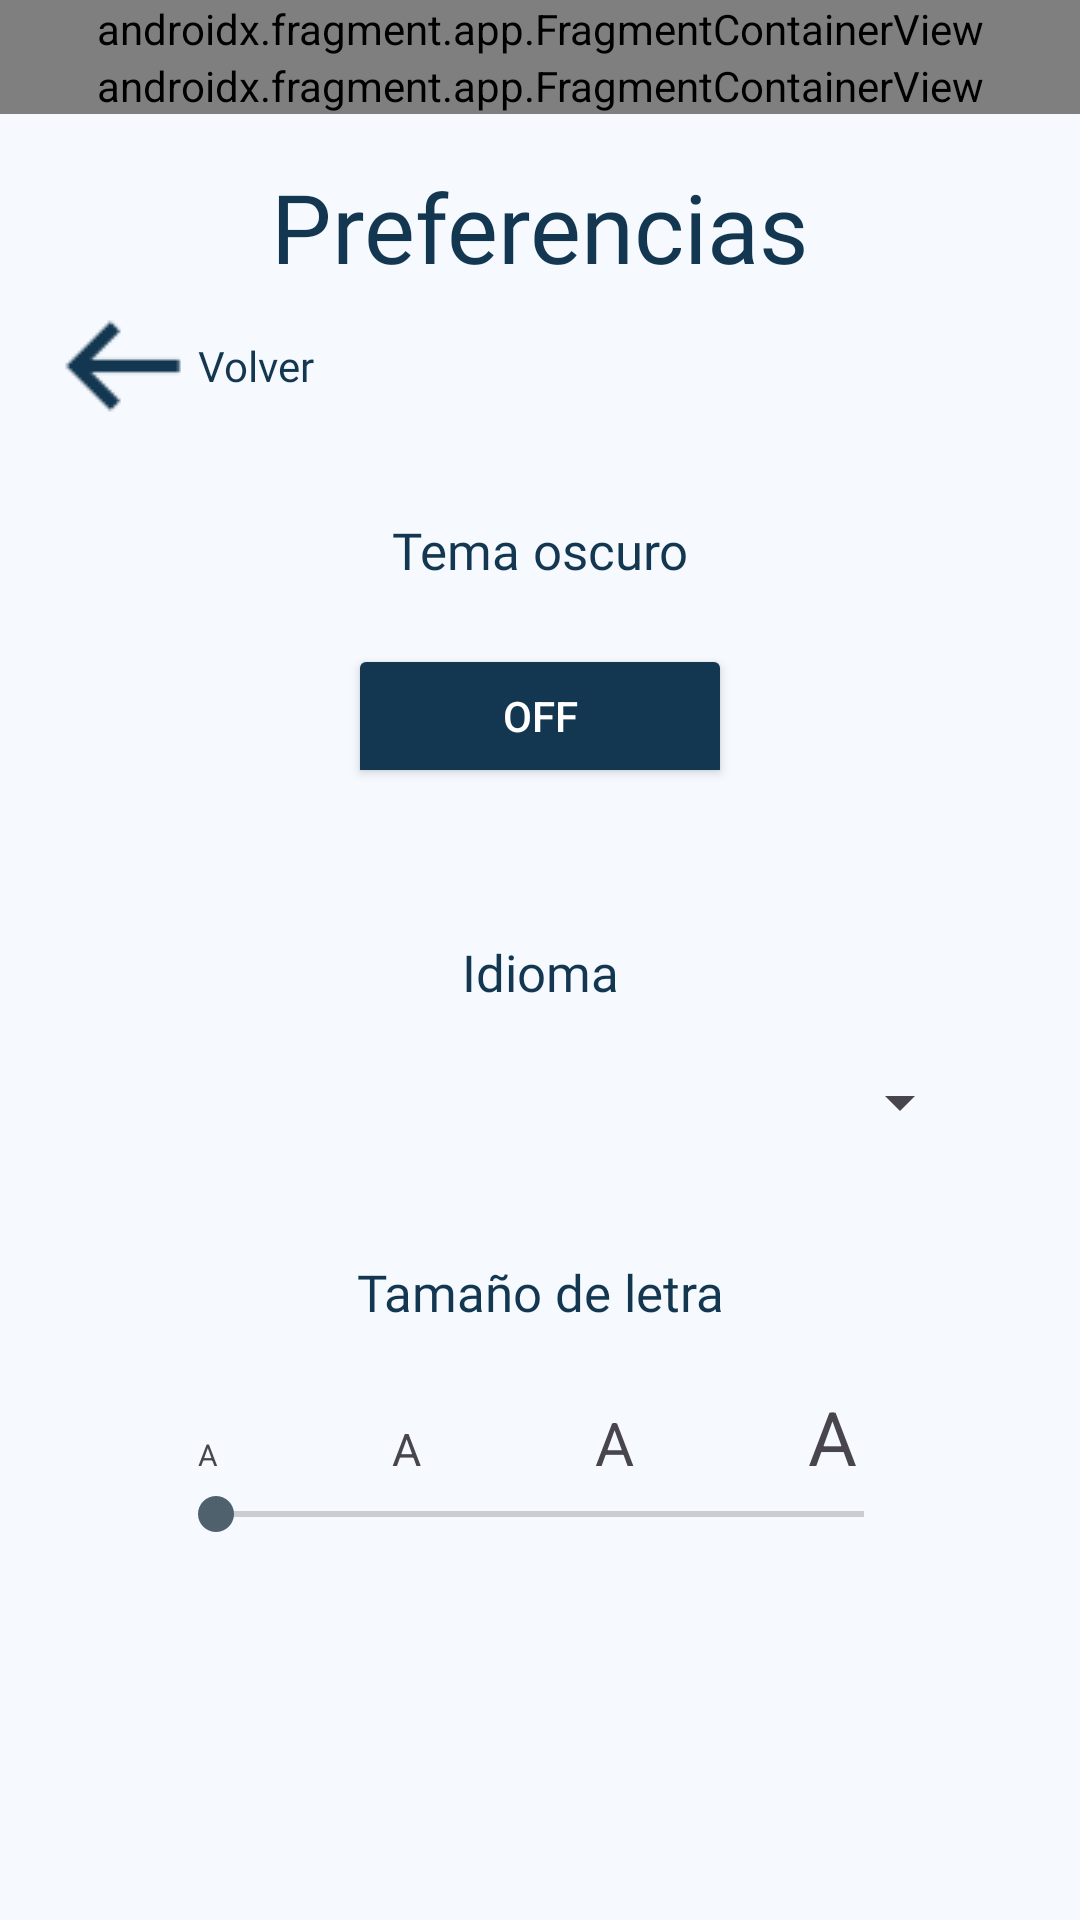

Screen size 1080*1920. Icon name, then its box in pixels as {"x1": x1, "y1": y1, "x2": x2, "y2": y2}:
iconarrowleft: {"x1": 65, "y1": 320, "x2": 181, "y2": 412}
